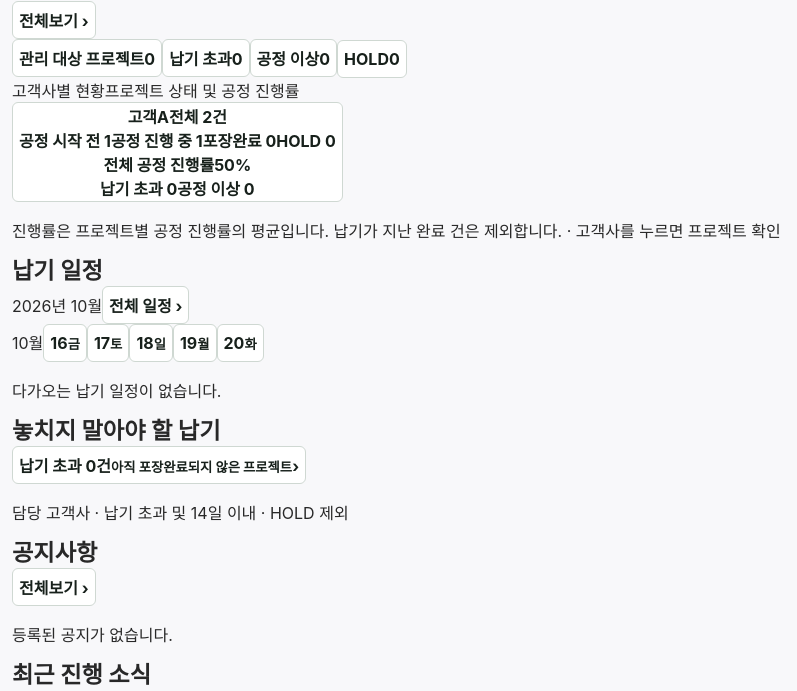
Test case: 날짜 선택은 일부 홈 일정 대신 담당 고객사와 납기일로 다시 조회하고 다시 누르면 해제한다
This screenshot has width=797, height=691.
(page scrolled)
Expected: the button with aria-label "관리 대상 프로젝트 0" is shown, [12,39,162,77]
Click the button "18일".
click(151, 343)  # box [129,324,173,362]
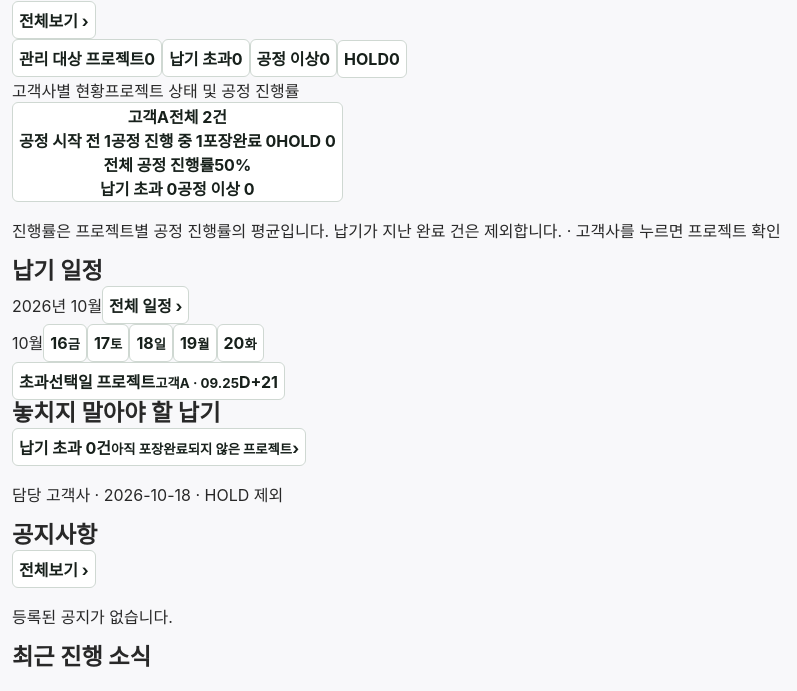
Now the button "선택일 프로젝트" is shown, box [12,362,285,400]
Click the button "18일".
click(151, 343)  # box [129,324,173,362]
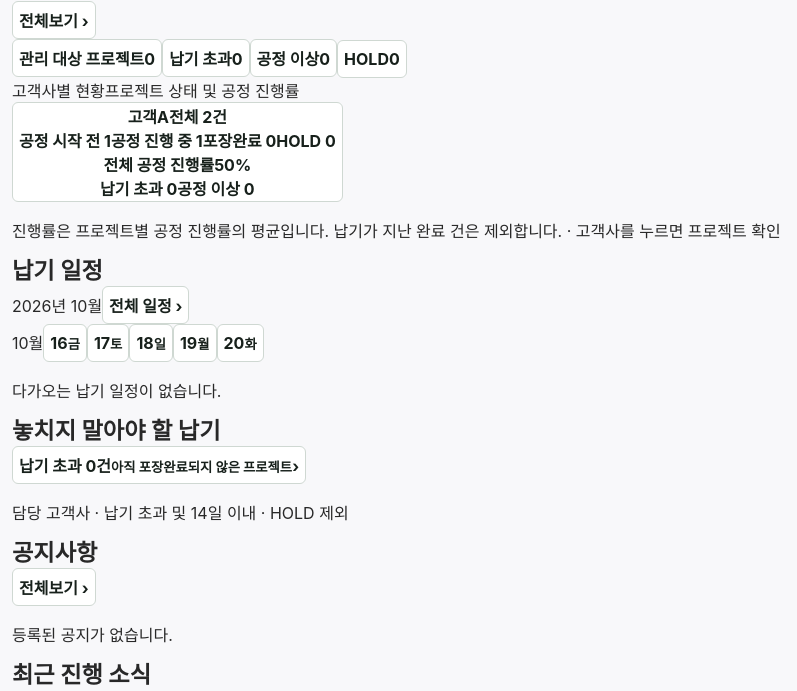
Now the button "선택일 프로젝트" is gone
